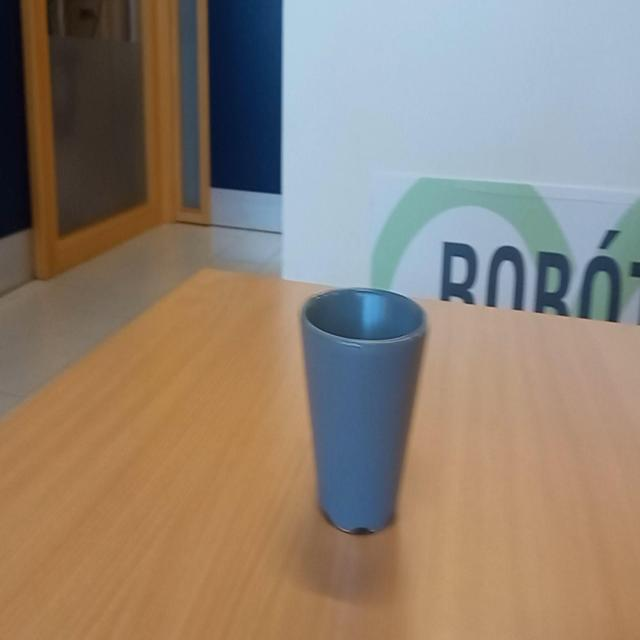cup: (299, 284, 429, 540)
